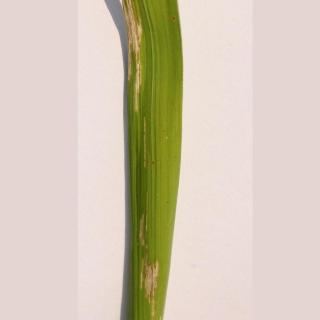Hawar-Daun: (127, 198, 169, 320), (116, 5, 148, 93)
